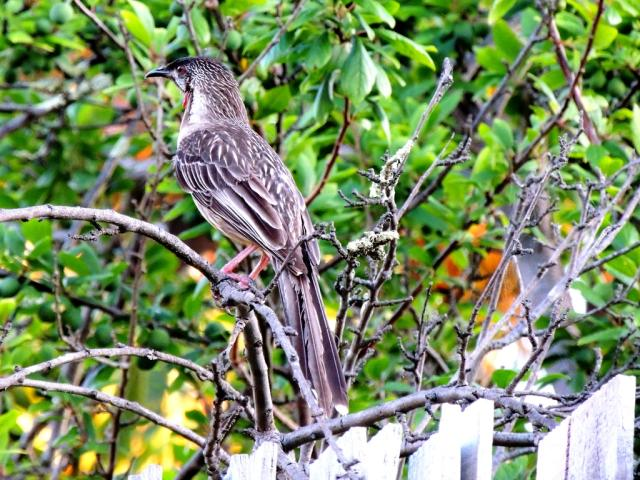Bird: (144, 53, 350, 422)
